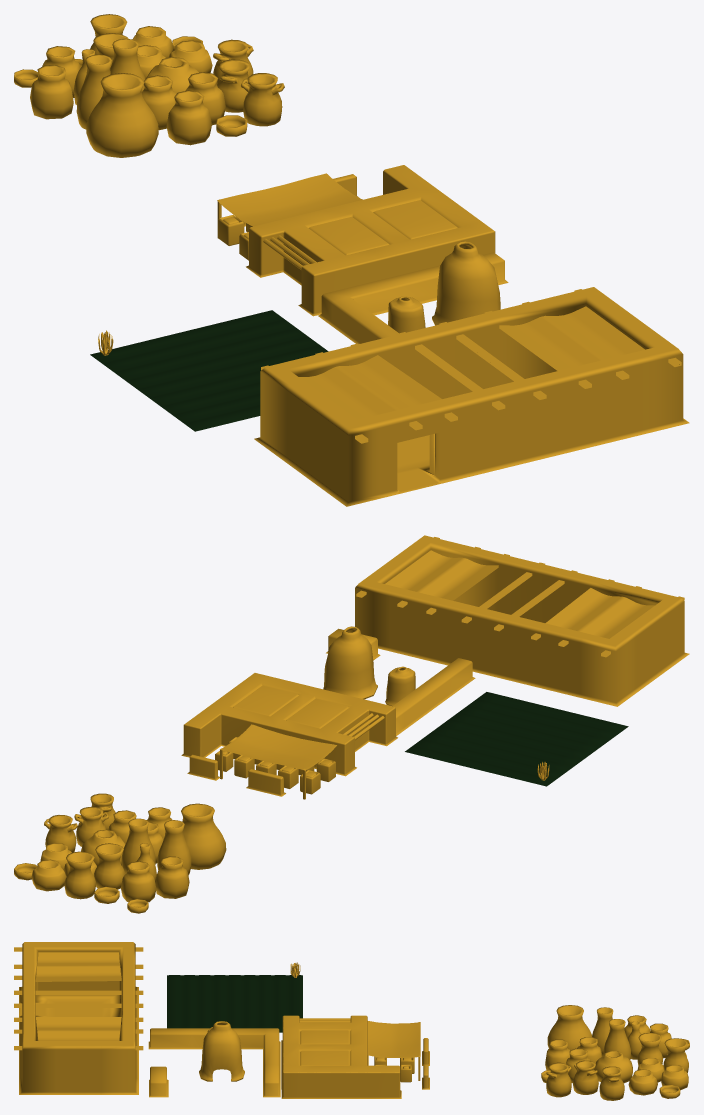
File: casas.fbx
3 views of the same model, one above another, from view 1: azimuth 30°, elevation 25°; view 2: azimuth 150°, elevation 25°; view 3: azimuth 270°, elevation 25° (orthographic). The views are drawn at different scales.
Visible parts, largest first — view 1: casa 2, vasijas, casa 1, sembradio.001, muro grande, horno grande, horno pequeño; view 2: casa 2, casa 1, vasijas, sembradio.001, horno grande, muro grande, horno pequeño; view 3: casa 2, casa 1, vasijas, sembradio.001, muro grande, horno grande, muro pequeño.
Boxes of the visible parts, <box> form: casa 2: <box>254,287,689,506</box>; vasijas: <box>14,14,284,157</box>; casa 1: <box>217,165,495,316</box>; sembradio.001: <box>90,310,328,431</box>; muro grande: <box>318,252,508,343</box>; horno grande: <box>432,241,500,325</box>; horno pequeño: <box>388,296,425,333</box>; casa 2: <box>355,535,689,706</box>; casa 1: <box>181,673,397,799</box>; vasijas: <box>14,793,226,913</box>; sembradio.001: <box>405,692,628,786</box>; horno grande: <box>323,626,377,699</box>; muro grande: <box>393,658,475,736</box>; horno pequeño: <box>385,666,415,706</box>; casa 2: <box>14,942,143,1094</box>; casa 1: <box>281,1015,429,1098</box>; vasijas: <box>541,1005,689,1100</box>; sembradio.001: <box>167,975,302,1032</box>; muro grande: <box>148,1028,280,1097</box>; horno grande: <box>199,1021,244,1081</box>; muro pequeño: <box>149,1066,168,1097</box>.
Bounding box in the file's own units: 883 × 172 × 1991.
